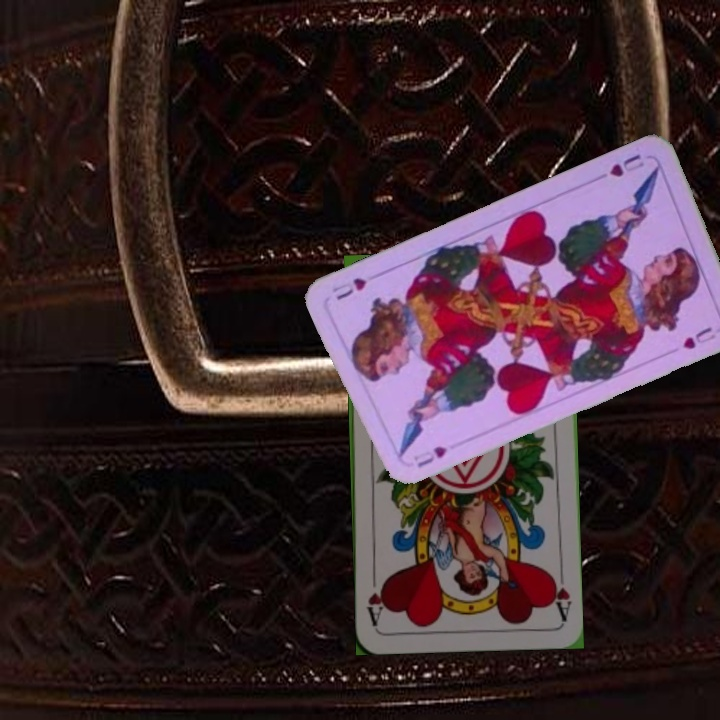HA: (546, 564, 574, 623)
HU: (605, 149, 648, 180), (409, 441, 450, 471)
